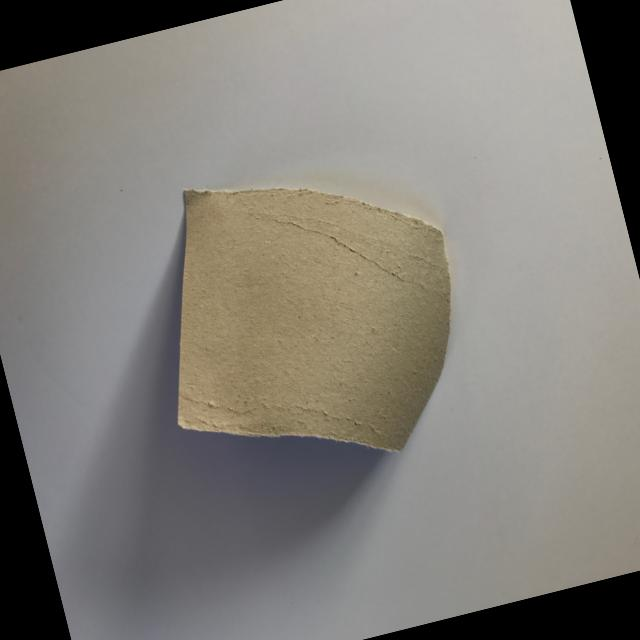Paper: (93, 97, 507, 520)
